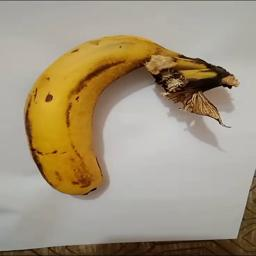Banana Semifresh: (21, 33, 242, 197)
